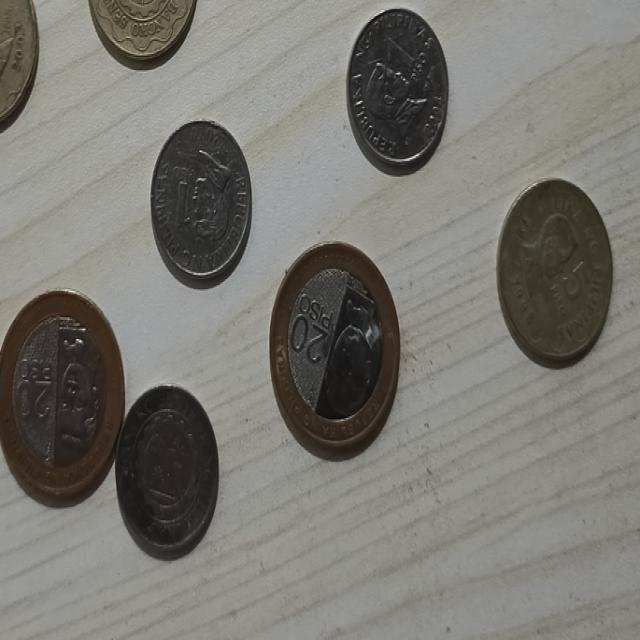1_peso: (117, 386, 218, 554), (349, 9, 448, 162), (153, 121, 249, 278)
20_peso: (269, 243, 399, 459), (0, 291, 123, 504)
5_peso: (498, 180, 612, 365)
